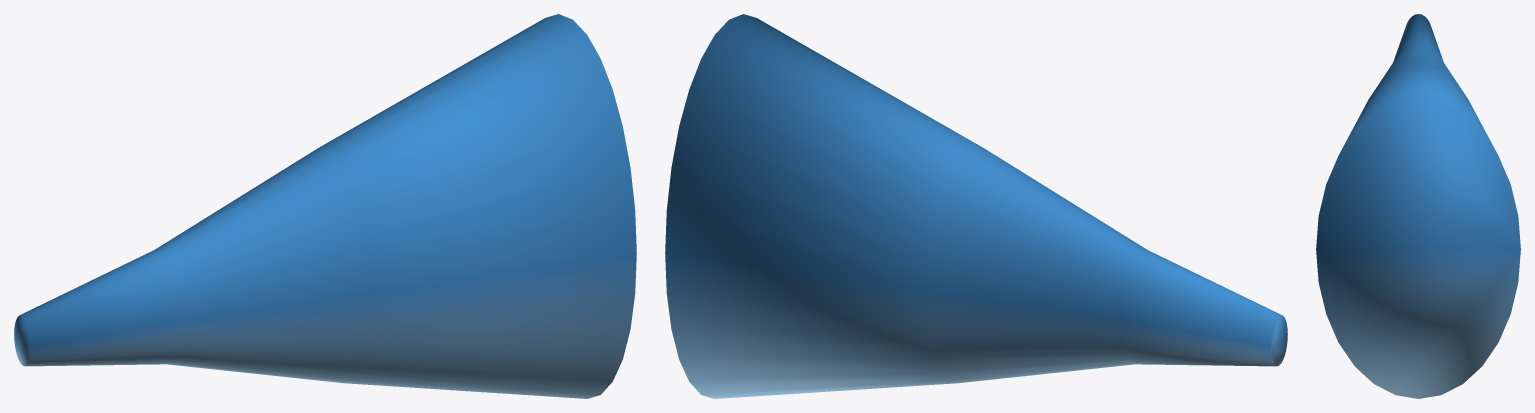
The model's file is 2073_Whale_WhaleBendingTail.fbx.
3 renders of one model, left to right at view 1: azimuth 30°, elevation 25°; view 2: azimuth 150°, elevation 25°; view 3: azimuth 270°, elevation 25°, orthographic. The views are drawn at different scales.
Visible parts, largest first — view 1: PART_WhaleBendingTail; view 2: PART_WhaleBendingTail; view 3: PART_WhaleBendingTail.
Part boxes in pixels (x1,y1,x2,y2): PART_WhaleBendingTail: (14,14,636,398); PART_WhaleBendingTail: (665,14,1287,398); PART_WhaleBendingTail: (1316,14,1520,398).
Bounding box in the file's own units: 185 × 120 × 74.4.
